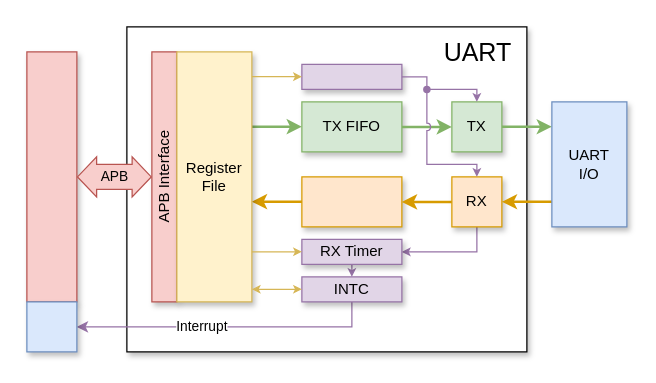
Image size: 656x383. Some labels were removed from this diagram. Here are the shapes that lost their labels. From the top down, the centre of each, then its label:
At point (352, 78): "Clock Gen".
At point (52, 178): "APB Interconnect".
At point (352, 203): "RX FIFO".
At point (52, 328): "PLIC".
